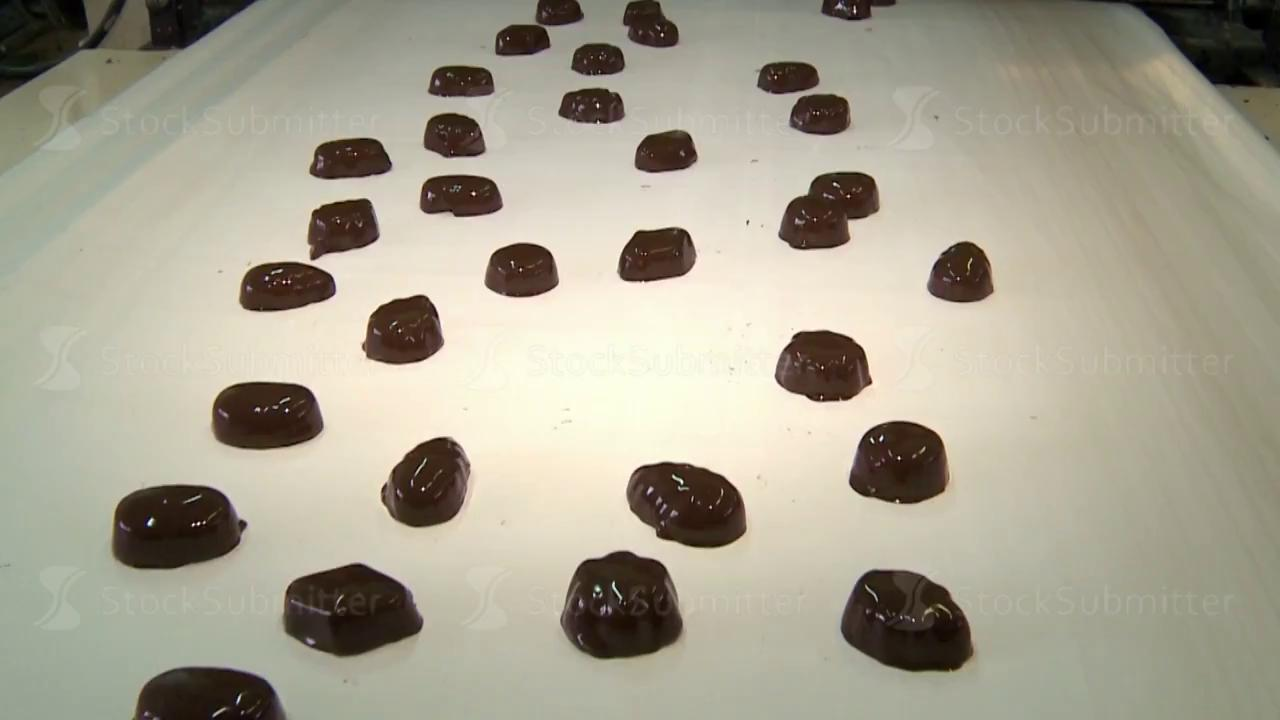chocolate: (840, 568, 973, 672), (560, 550, 682, 658), (283, 562, 423, 656), (112, 483, 246, 569), (626, 461, 747, 547), (849, 420, 949, 504), (132, 665, 286, 719), (381, 436, 470, 527), (212, 381, 323, 449), (774, 329, 872, 402), (362, 294, 443, 363), (239, 261, 335, 311), (307, 198, 379, 259), (618, 226, 696, 281), (927, 241, 994, 302), (485, 242, 558, 297), (778, 194, 850, 249), (420, 174, 503, 216), (309, 137, 391, 178), (809, 171, 879, 218), (424, 112, 485, 157), (635, 129, 697, 172), (623, 1, 678, 47), (789, 93, 850, 134), (558, 87, 624, 123), (428, 65, 494, 97), (757, 61, 819, 93), (571, 42, 624, 75), (495, 24, 550, 55), (821, 0, 894, 20), (535, 0, 583, 25)
